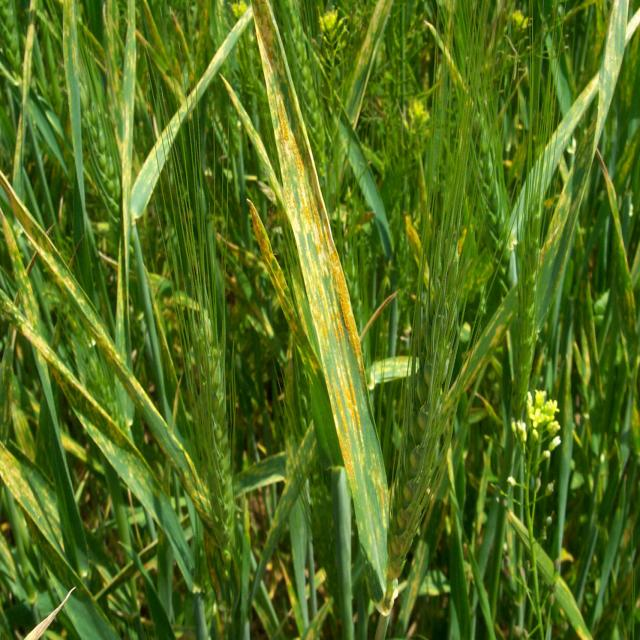wheat-yellowrust: (249, 0, 391, 576), (0, 168, 208, 532), (0, 289, 180, 564), (537, 0, 630, 336), (132, 4, 253, 228), (595, 151, 640, 462), (250, 197, 324, 386), (447, 282, 519, 403), (0, 440, 65, 559), (340, 0, 395, 133), (116, 0, 136, 363), (12, 0, 37, 197)
